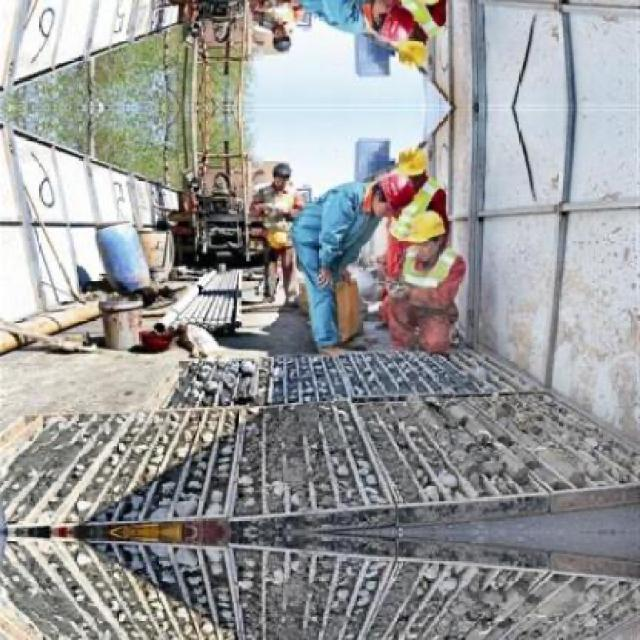con casco: (348, 166, 428, 236), (399, 210, 468, 273), (376, 143, 441, 200)
